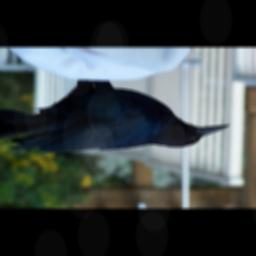Crow: (0, 80, 231, 153)
